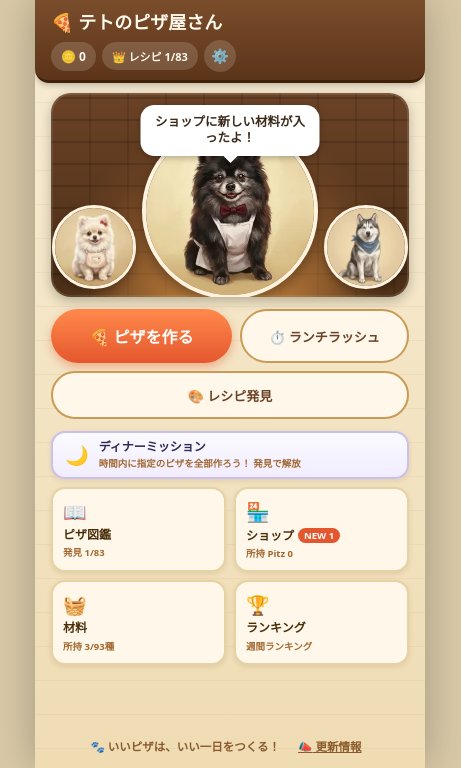
Test: HOME/GAME separation (Issue #24) › navigates HOME -> Lunch Rush straight into the Mission Intro overlay
The width and height of the screenshot is (461, 768).
Click the button "⏱️ ランチラッシュ" at point(324, 336), box left=240, top=309, right=409, bottom=363
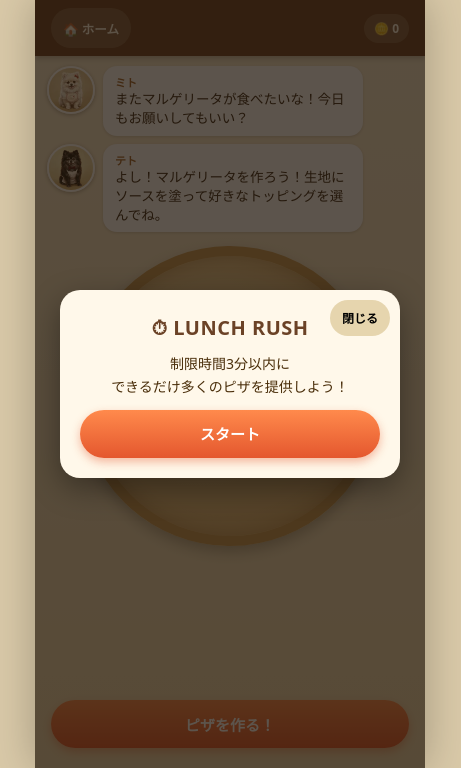
Check: the element with class "game-screen" is shown
Check: the element with class "mission-overlay" is shown
Check: the heading "⏱ LUNCH RUSH" is shown, box left=151, top=314, right=309, bottom=341
